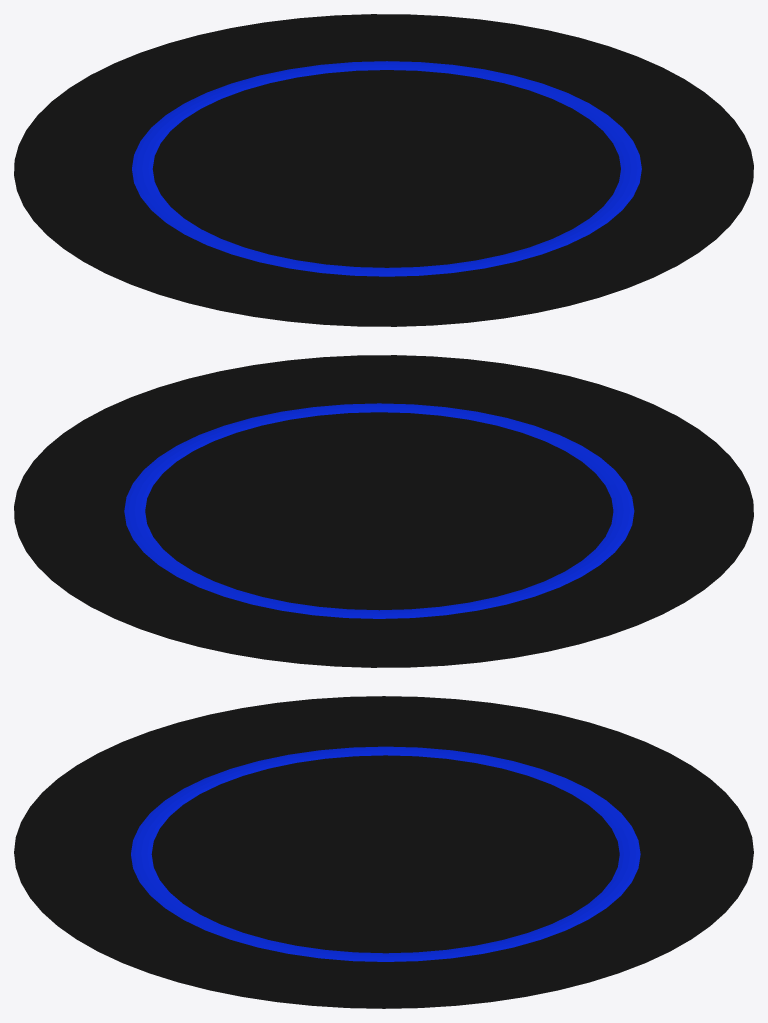
Rendered from floor 1.fbx.
3 views of the same model, one above another, from view 1: azimuth 30°, elevation 25°; view 2: azimuth 150°, elevation 25°; view 3: azimuth 270°, elevation 25° (orthographic).
Parts seen in each view (by area): view 1: Circle, Torus.001; view 2: Circle, Torus.001; view 3: Circle, Torus.001.
Part boxes in pixels (x1,y1,x2,y2): Circle: [14, 14, 753, 326]; Torus.001: [132, 61, 641, 276]; Circle: [14, 355, 753, 667]; Torus.001: [124, 403, 634, 618]; Circle: [14, 696, 753, 1008]; Torus.001: [131, 746, 640, 961].
Size of the model in its own units: 1311 by 4.78 by 1311.
